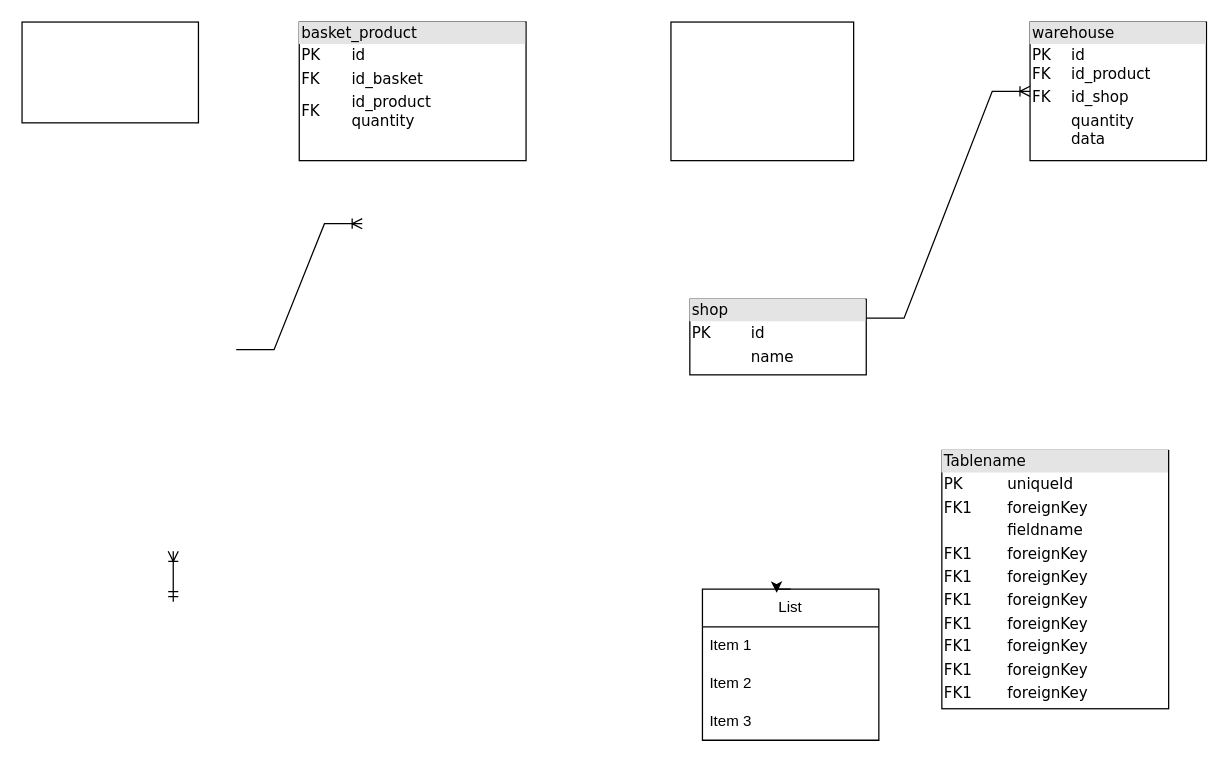
The diagram is 1229 pixels wide and 762 high, and some of its shapes have lost their labels. The box of each missing label's shape, as (x1, y1, x2, y2) in pixels:
basket PK id FK: (670, 21, 854, 161)
Product PK id plu name: (21, 21, 198, 123)
